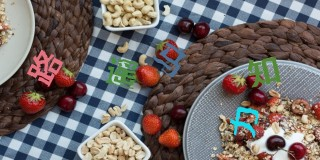力: (230, 106, 259, 137)
知: (246, 56, 282, 88)
路: (26, 49, 62, 88)
遥: (105, 56, 136, 89)
马: (153, 42, 186, 77)
